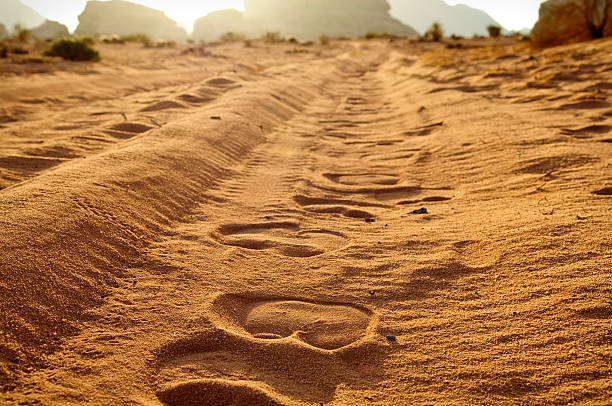animal_footprint: (155, 294, 387, 405), (212, 221, 346, 257), (294, 194, 385, 206), (325, 173, 397, 185), (374, 186, 422, 200), (343, 210, 373, 217)
